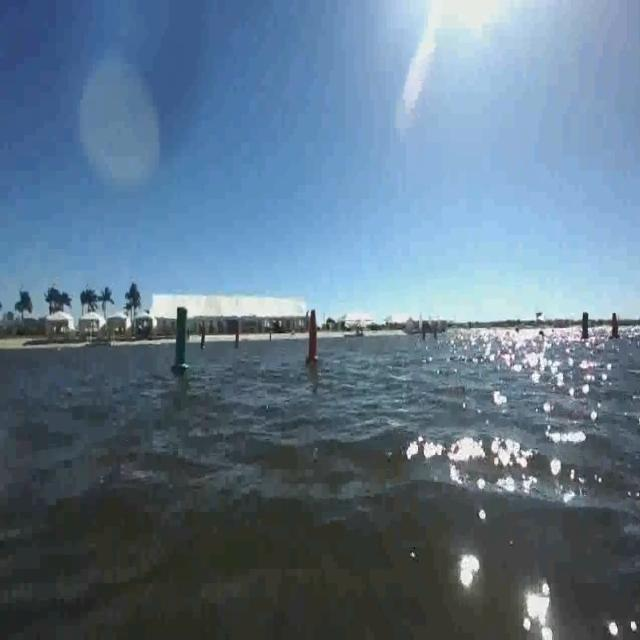green-column-buoy: (170, 306, 190, 374), (578, 313, 591, 344), (200, 325, 208, 351)
red-column-buoy: (305, 310, 321, 368), (611, 314, 623, 343), (235, 327, 242, 349)
